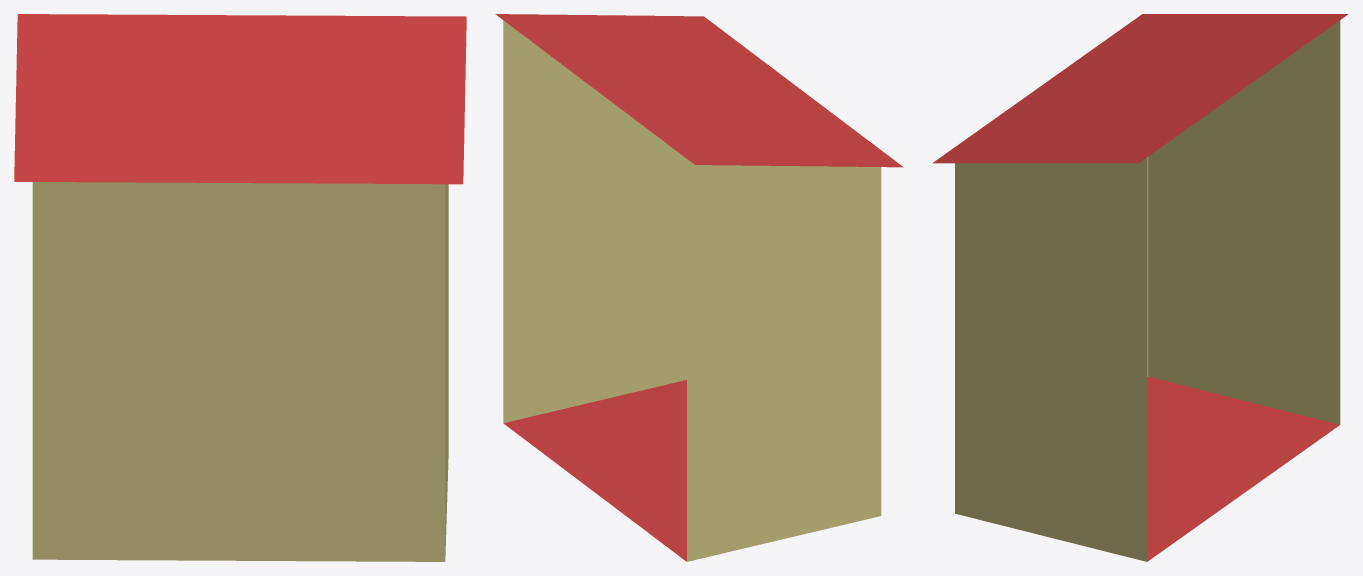
3 views of the same model, side by side, from view 1: azimuth 30°, elevation 25°; view 2: azimuth 150°, elevation 25°; view 3: azimuth 270°, elevation 25° (orthographic). The views are drawn at different scales.
Bounding box in the file's own units: 7.11 × 6.22 × 6.67.
